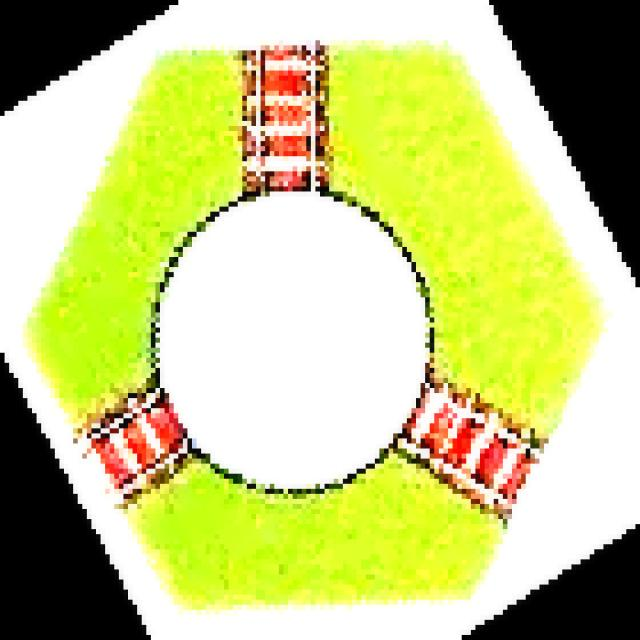11_0: (25, 47, 602, 603)
